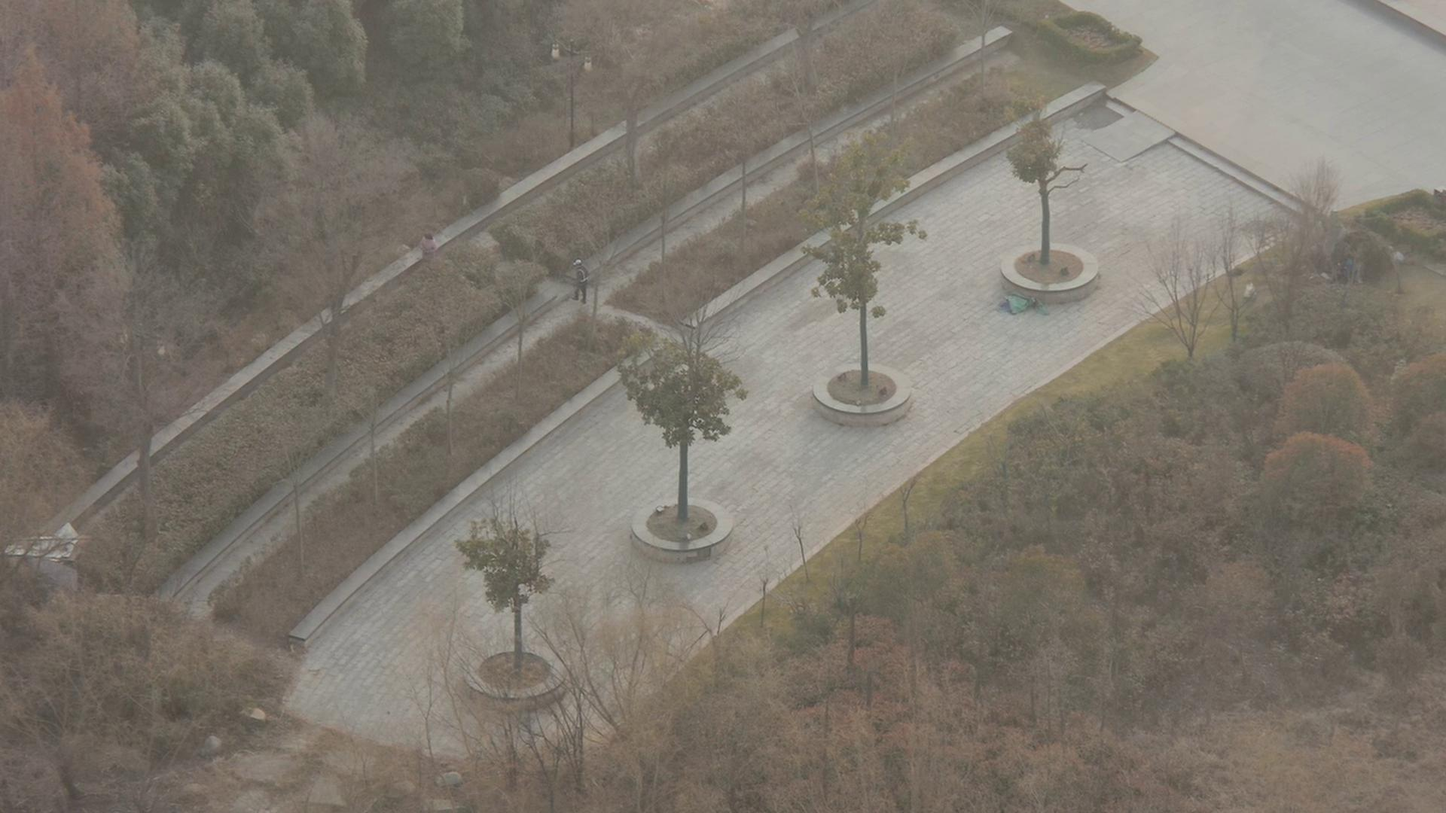human: (566, 234, 602, 299), (415, 210, 444, 265)
